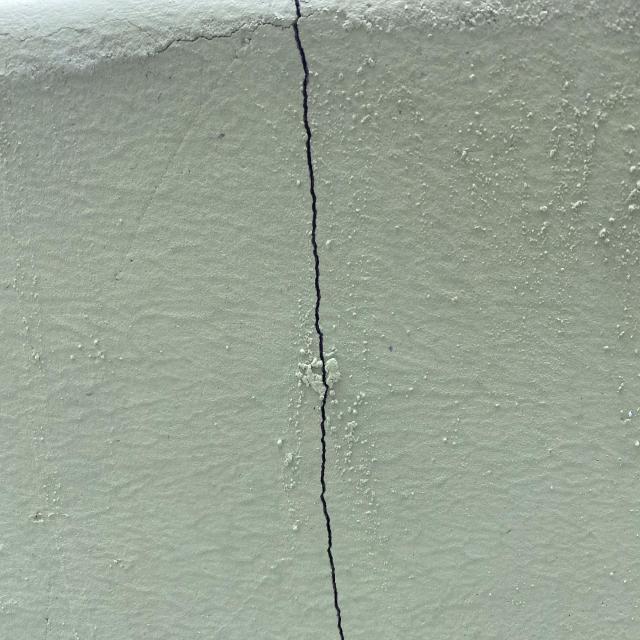SurfaceCrack: (252, 1, 382, 640)
